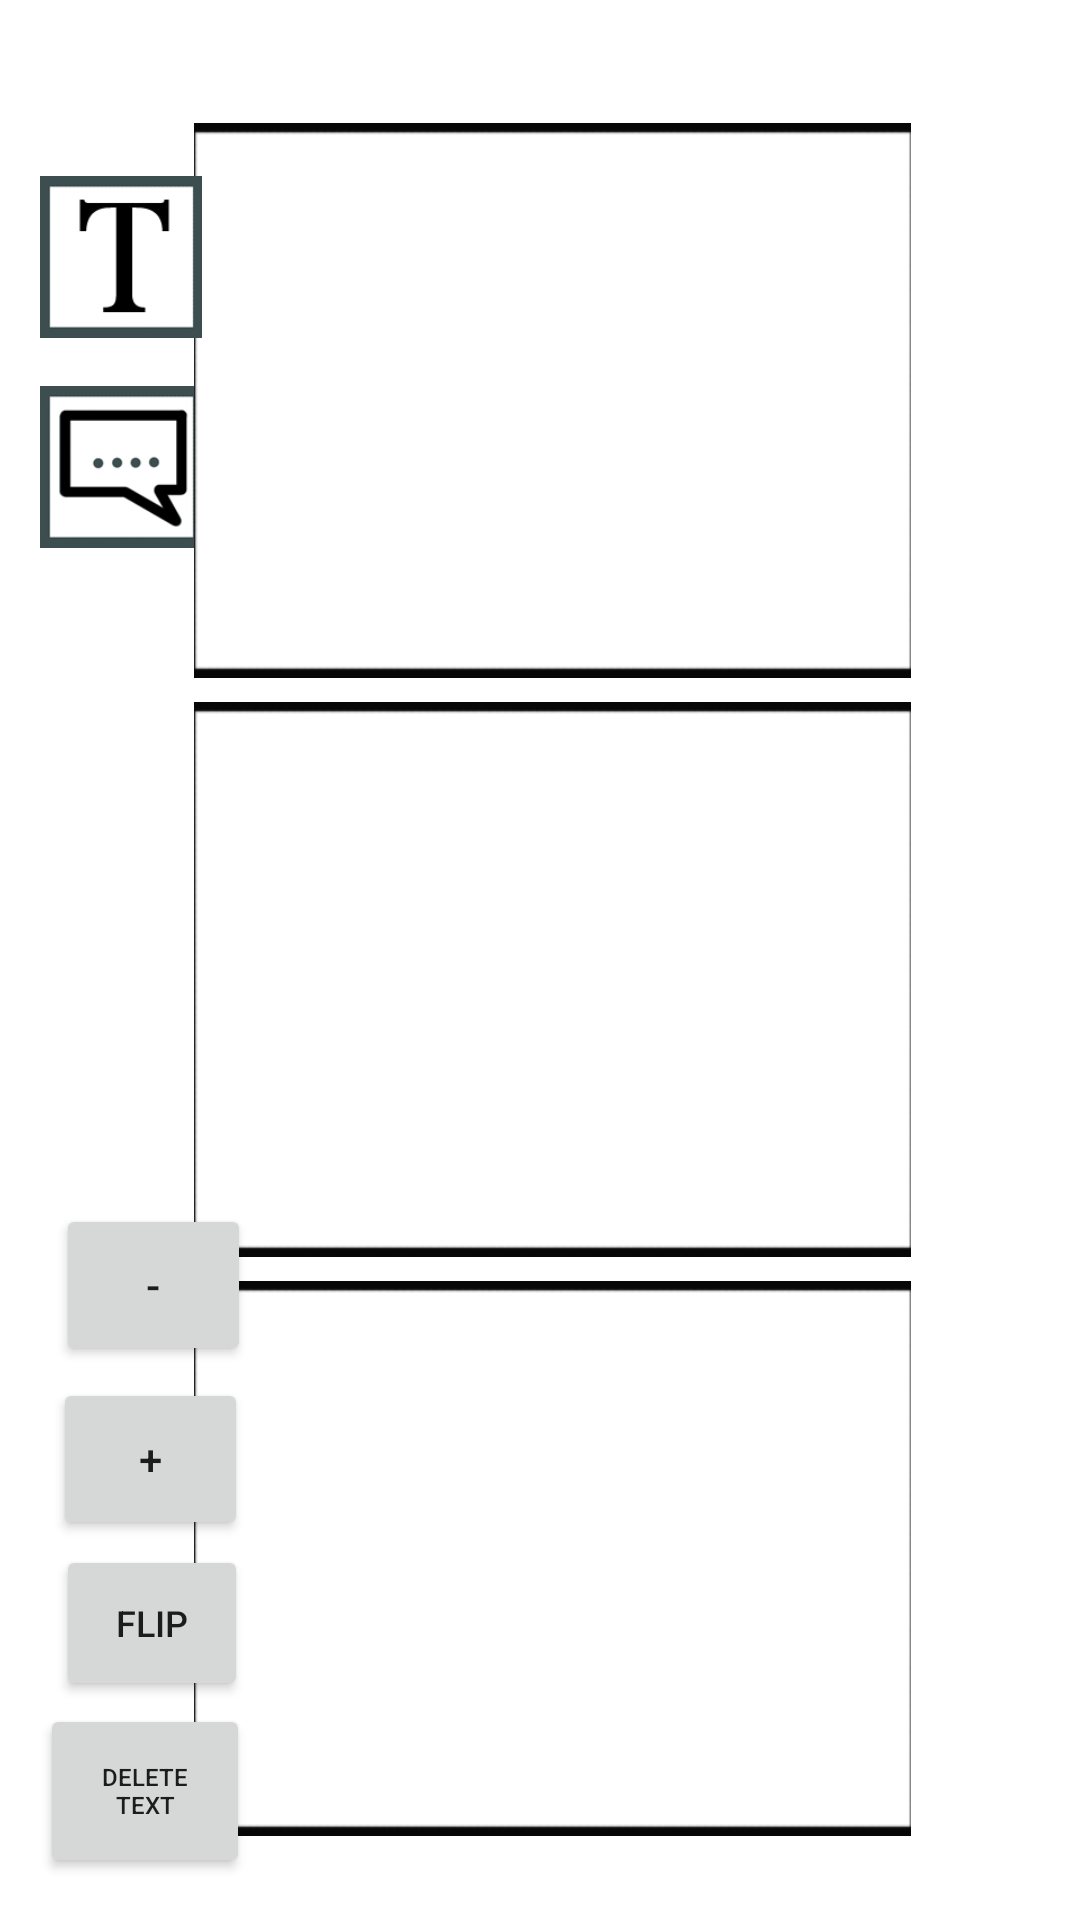

Named icons in this screenshot (1080w x 1920h) and their bounding boxes, {"left": x1, "top": y1, "right": x2, "bottom": y2}:
generatebubble: {"left": 40, "top": 386, "right": 197, "bottom": 548}
generatetext: {"left": 40, "top": 176, "right": 202, "bottom": 338}
